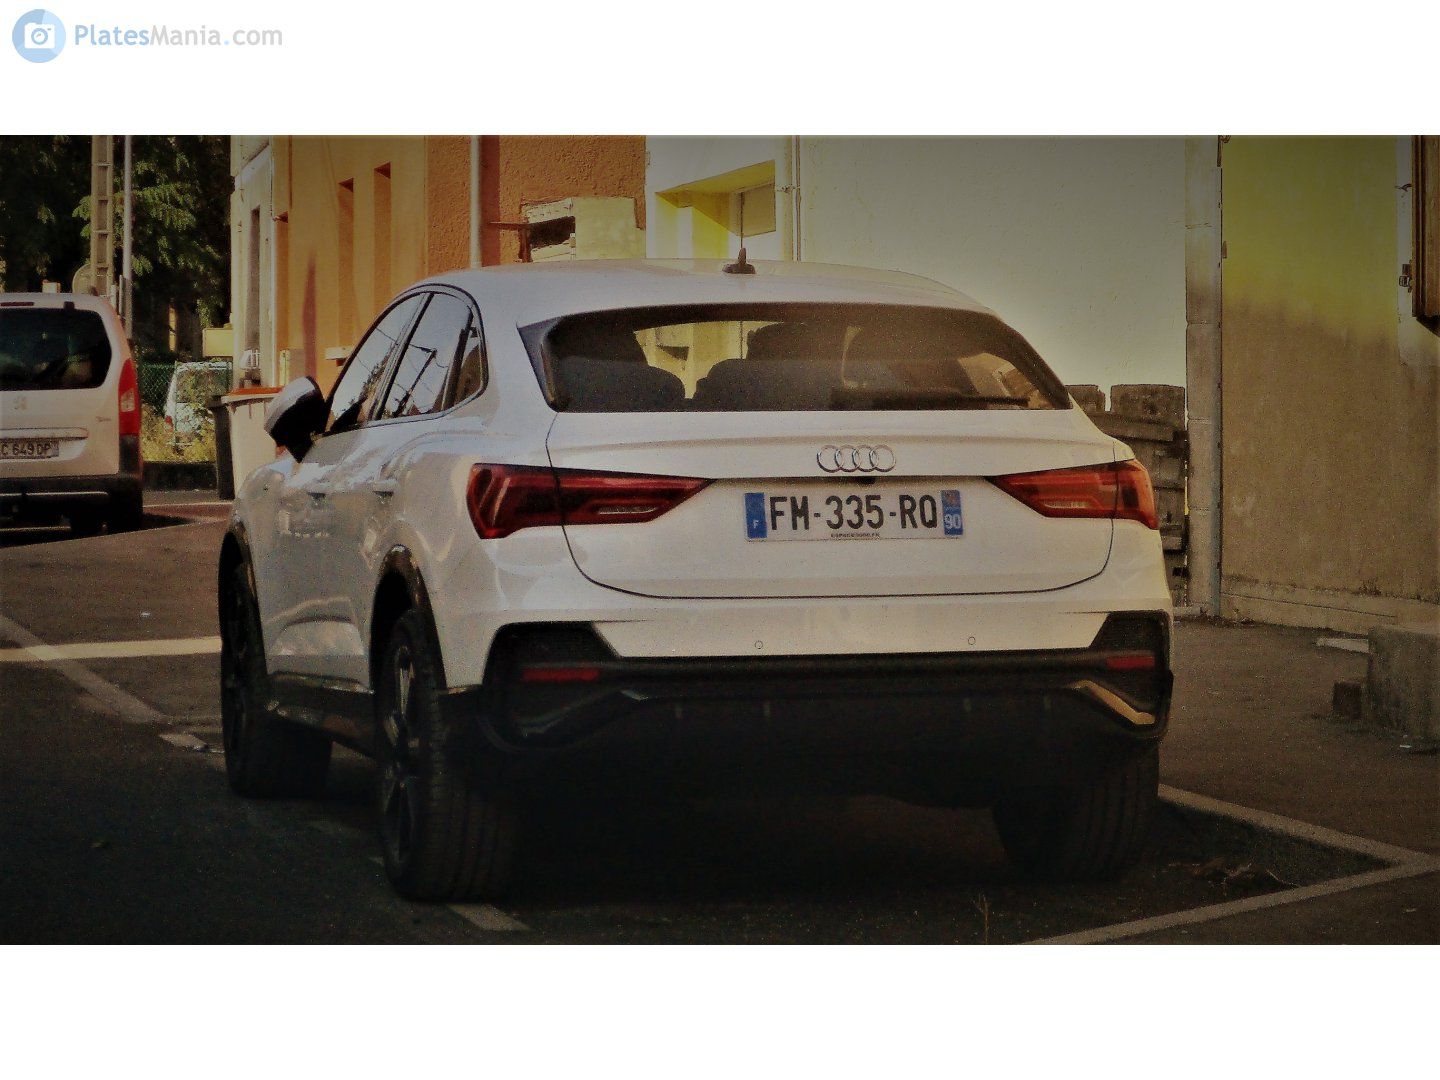licence plate: (736, 481, 971, 547)
